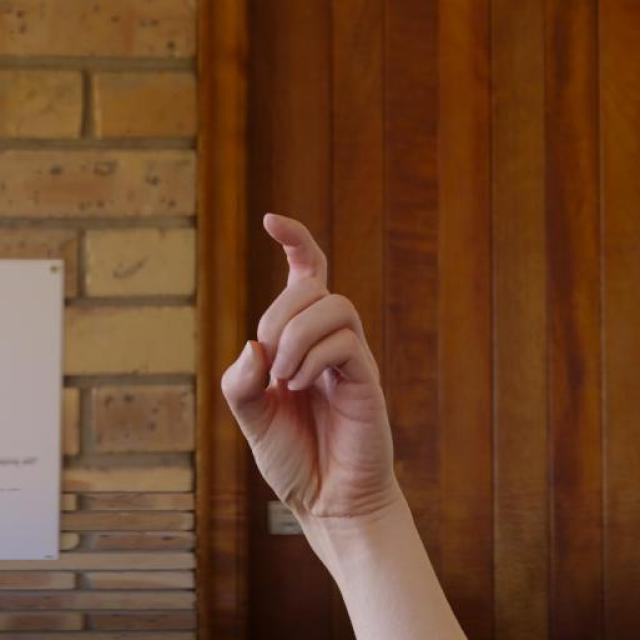X: (217, 210, 406, 526)
